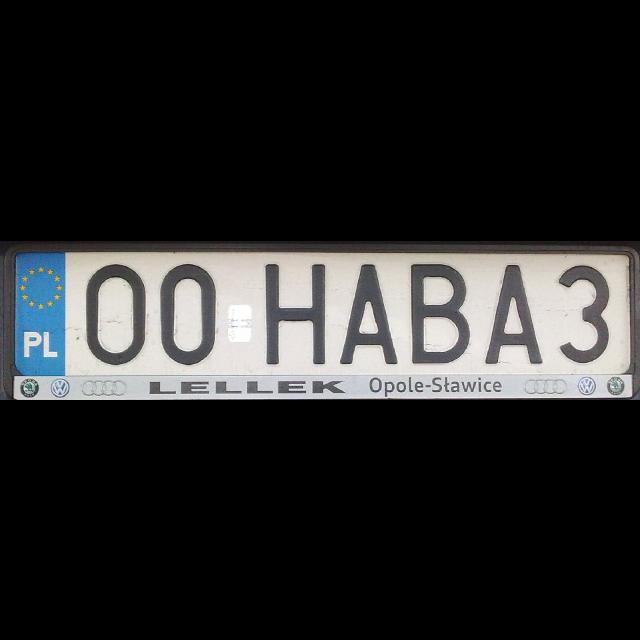pl_license_plate: (15, 252, 630, 372)
